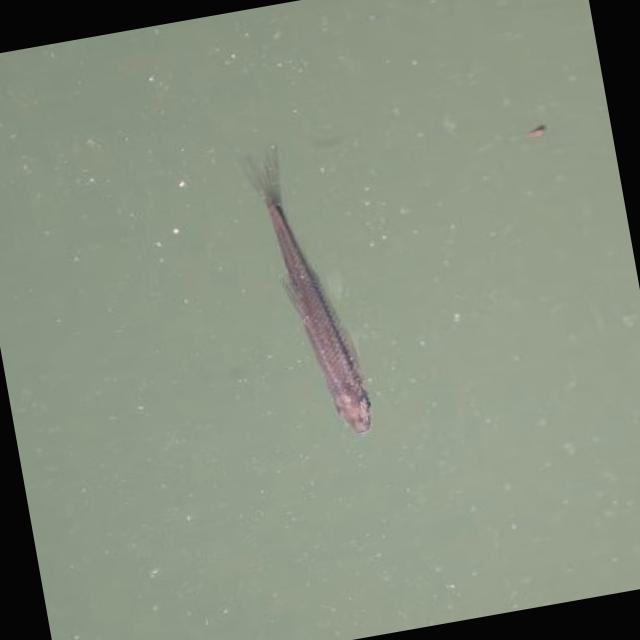Cakil Baligi: (230, 98, 383, 448)
